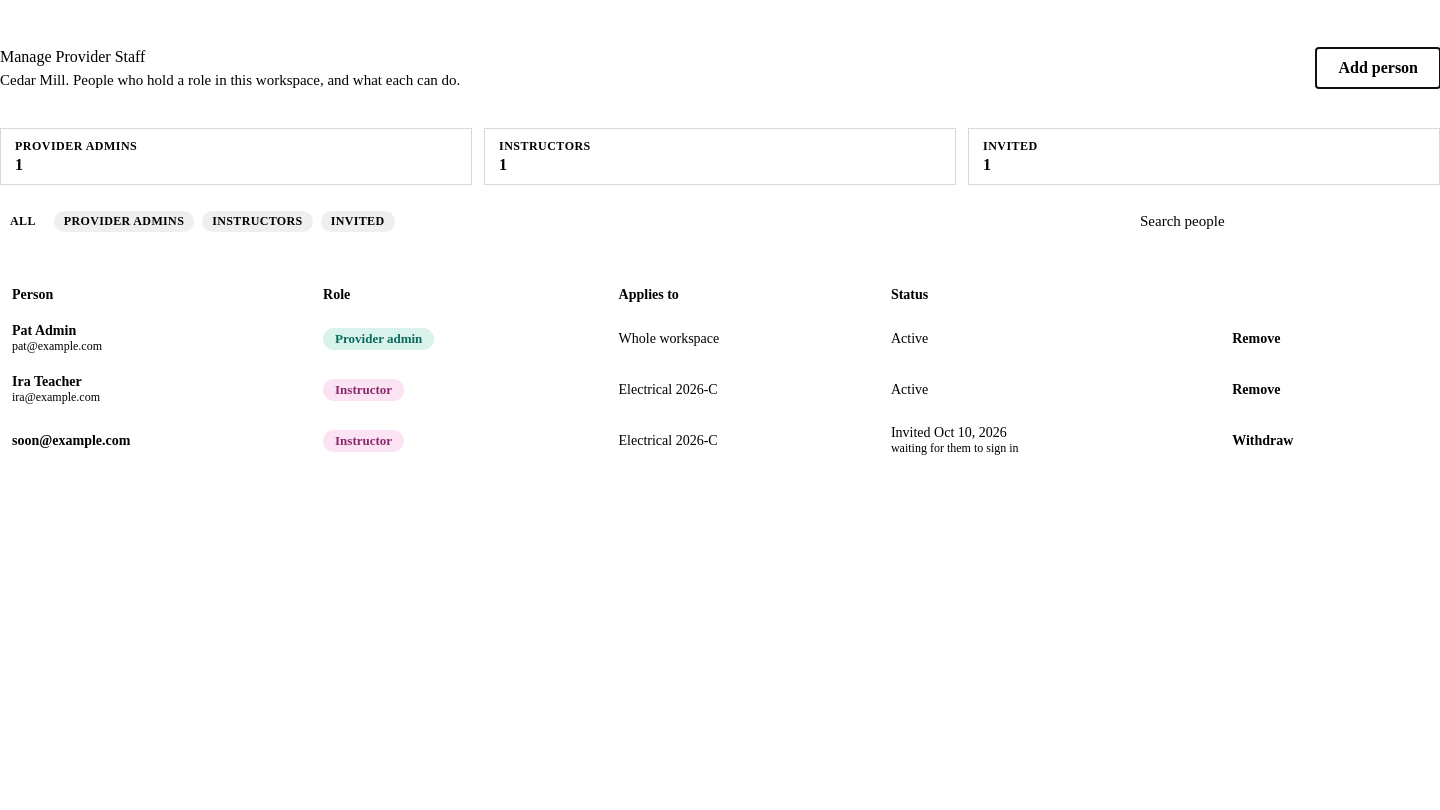
Scenario: MembersPage › opens Add person in a dialog on the email field and returns focus when it closes
Click the button "Add person" at (1378, 68), box 1316,48 -> 1439,88
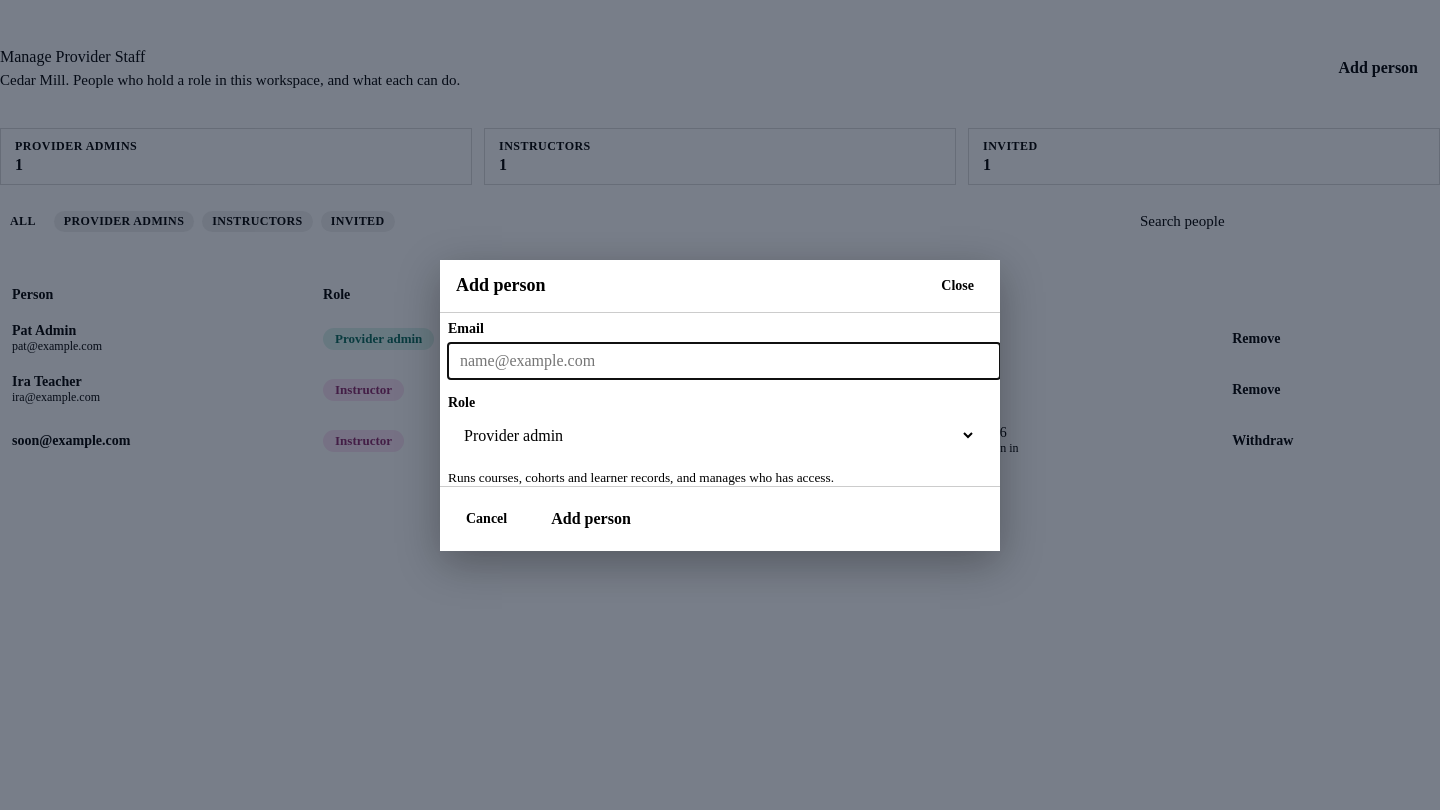
Click the button "Cancel" at (487, 518), box 456,498 -> 517,538
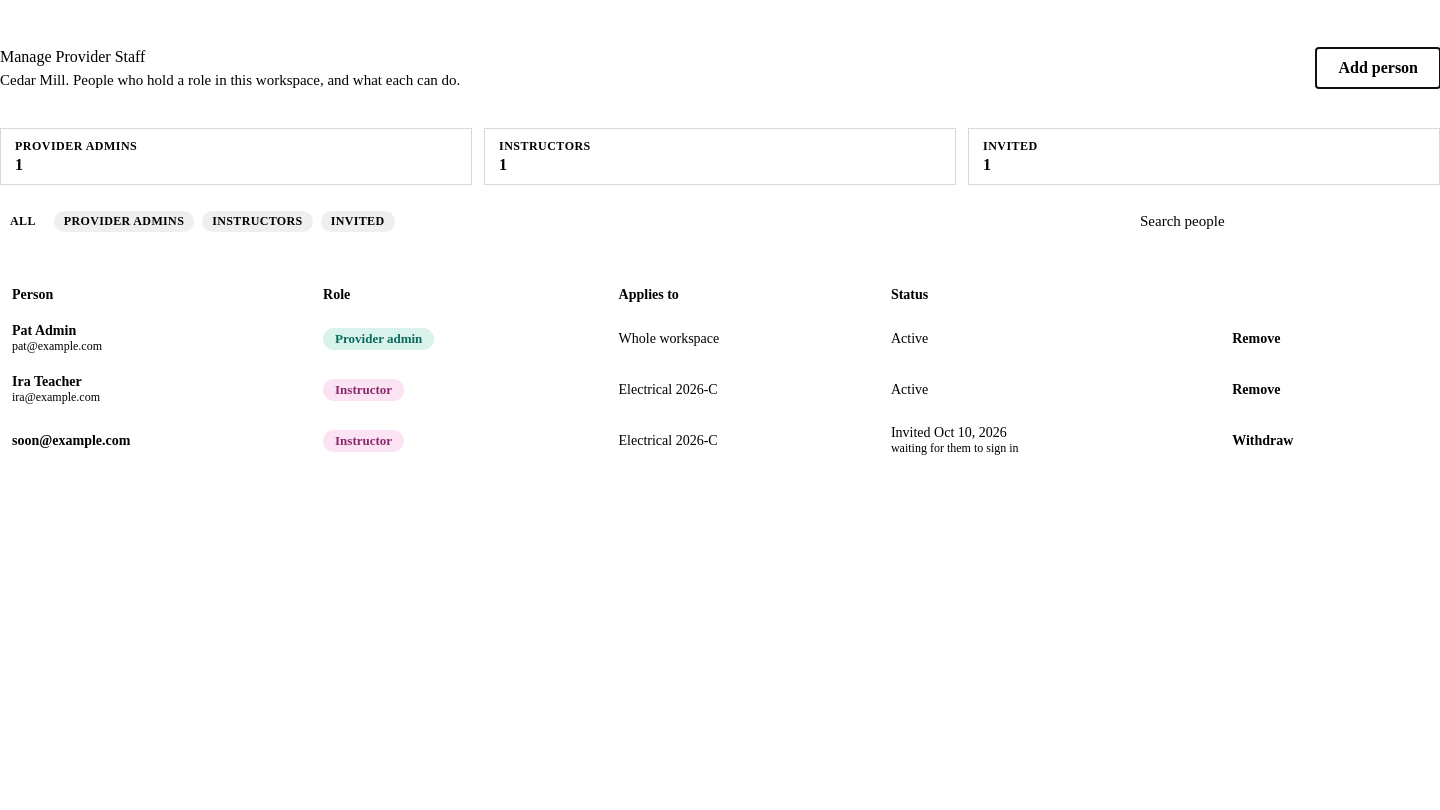
Expected: the dialog is gone
// Esc closes it too.
Click the button "Add person" at (1378, 68), box 1316,48 -> 1439,88
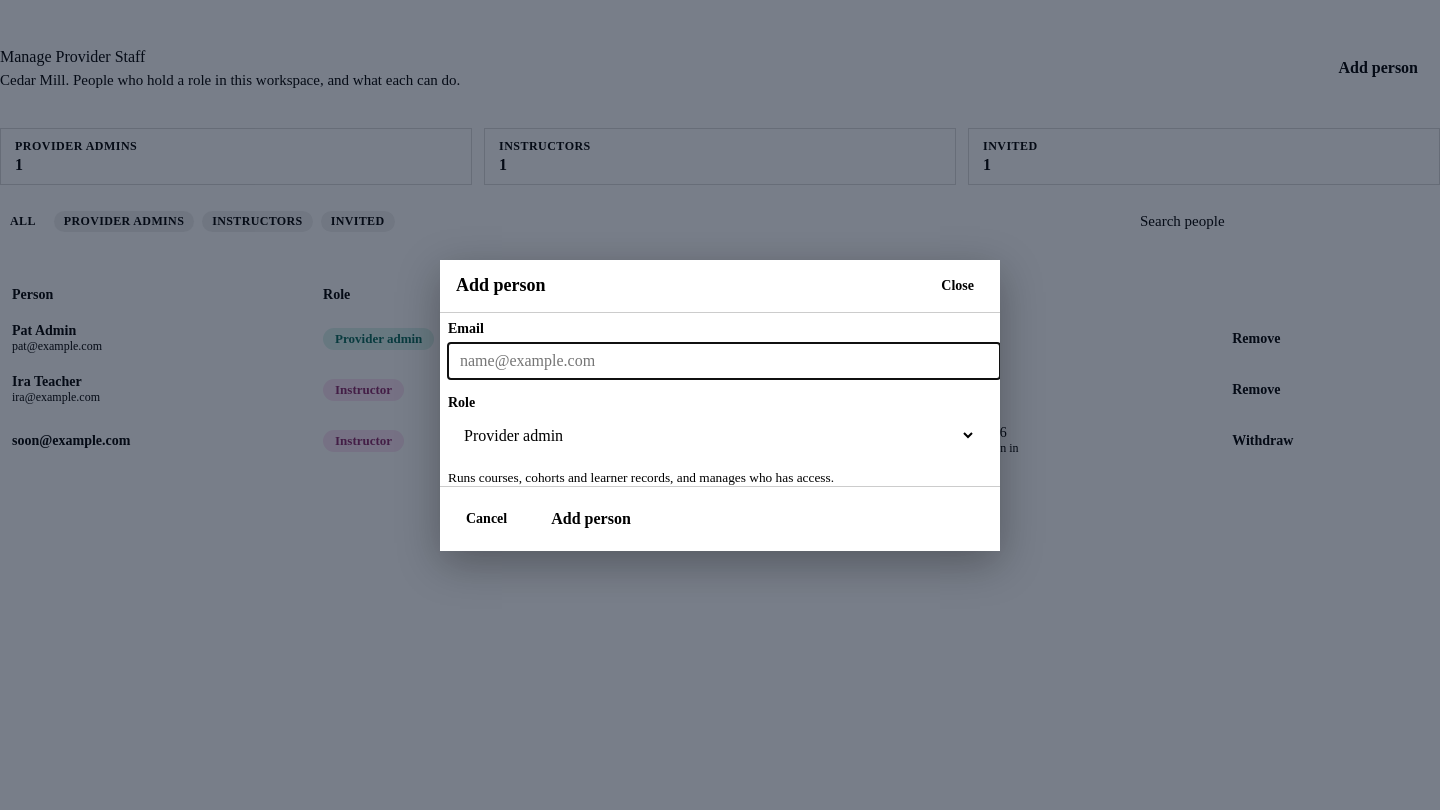
Press Escape in the dialog, box 440,260 -> 1000,550
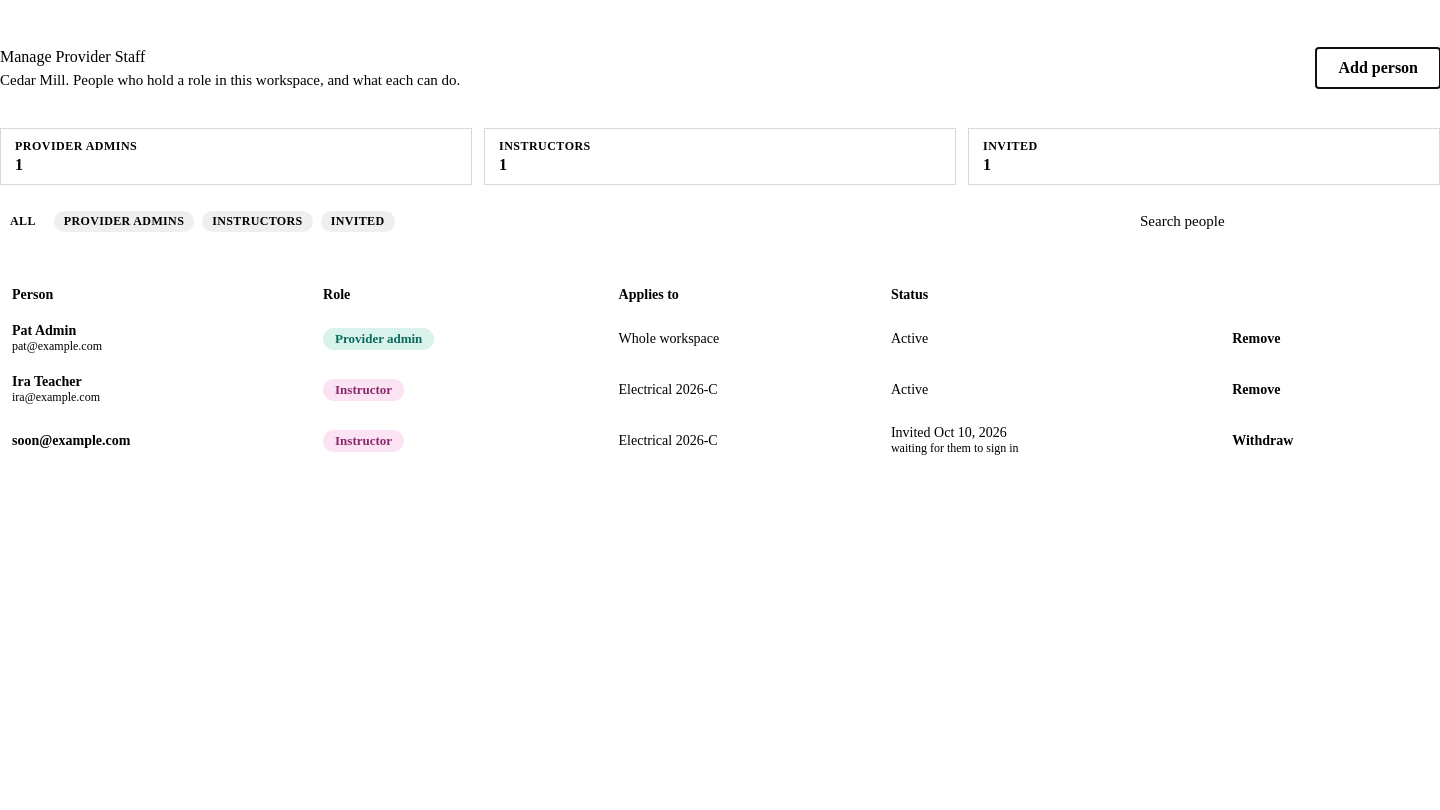
Expected: the dialog is gone
